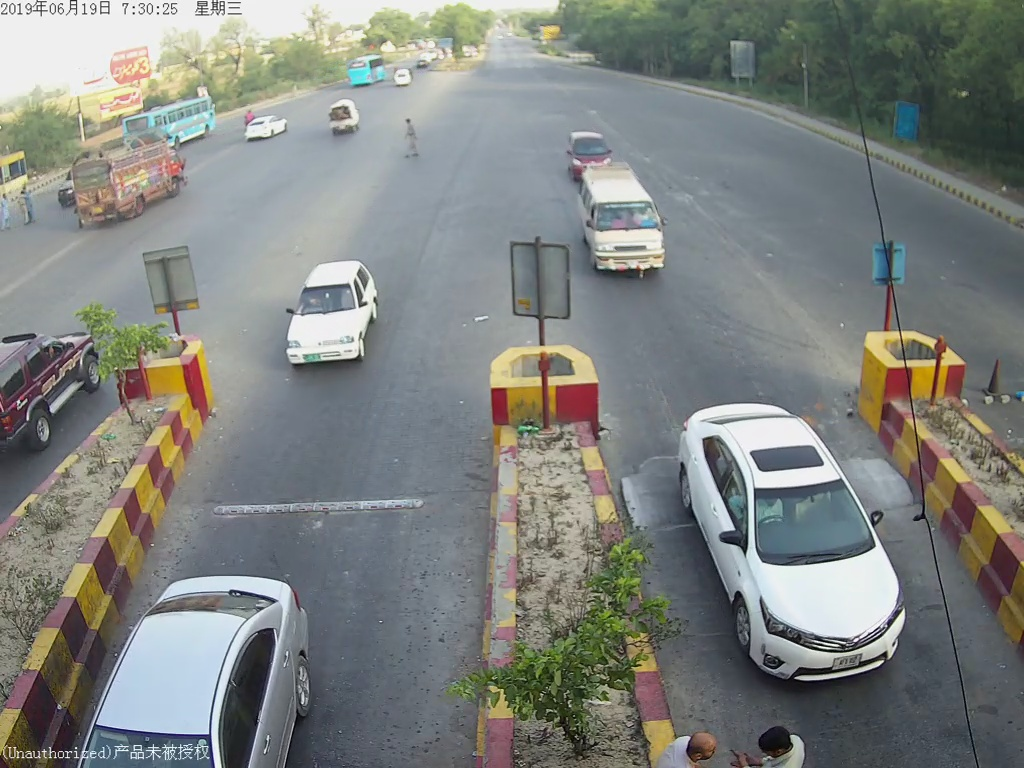Cat-1: (681, 384, 927, 697), (283, 262, 388, 378)
Cat-2: (579, 167, 677, 279)
